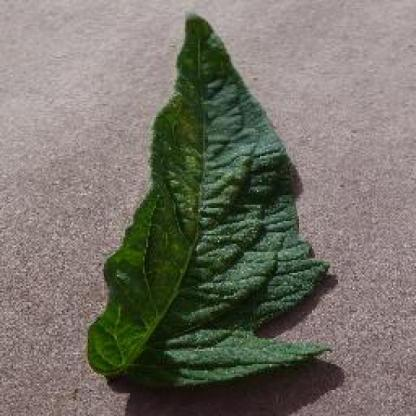Tomato_Spider_Mites: (88, 13, 330, 384)
